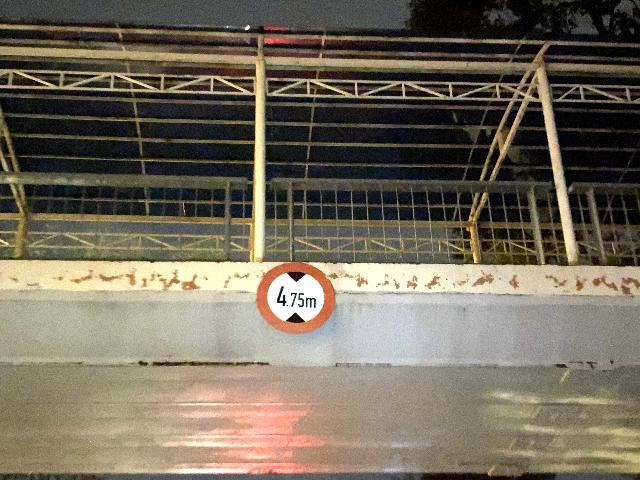han-che-chieu-cao: (257, 262, 335, 334)
